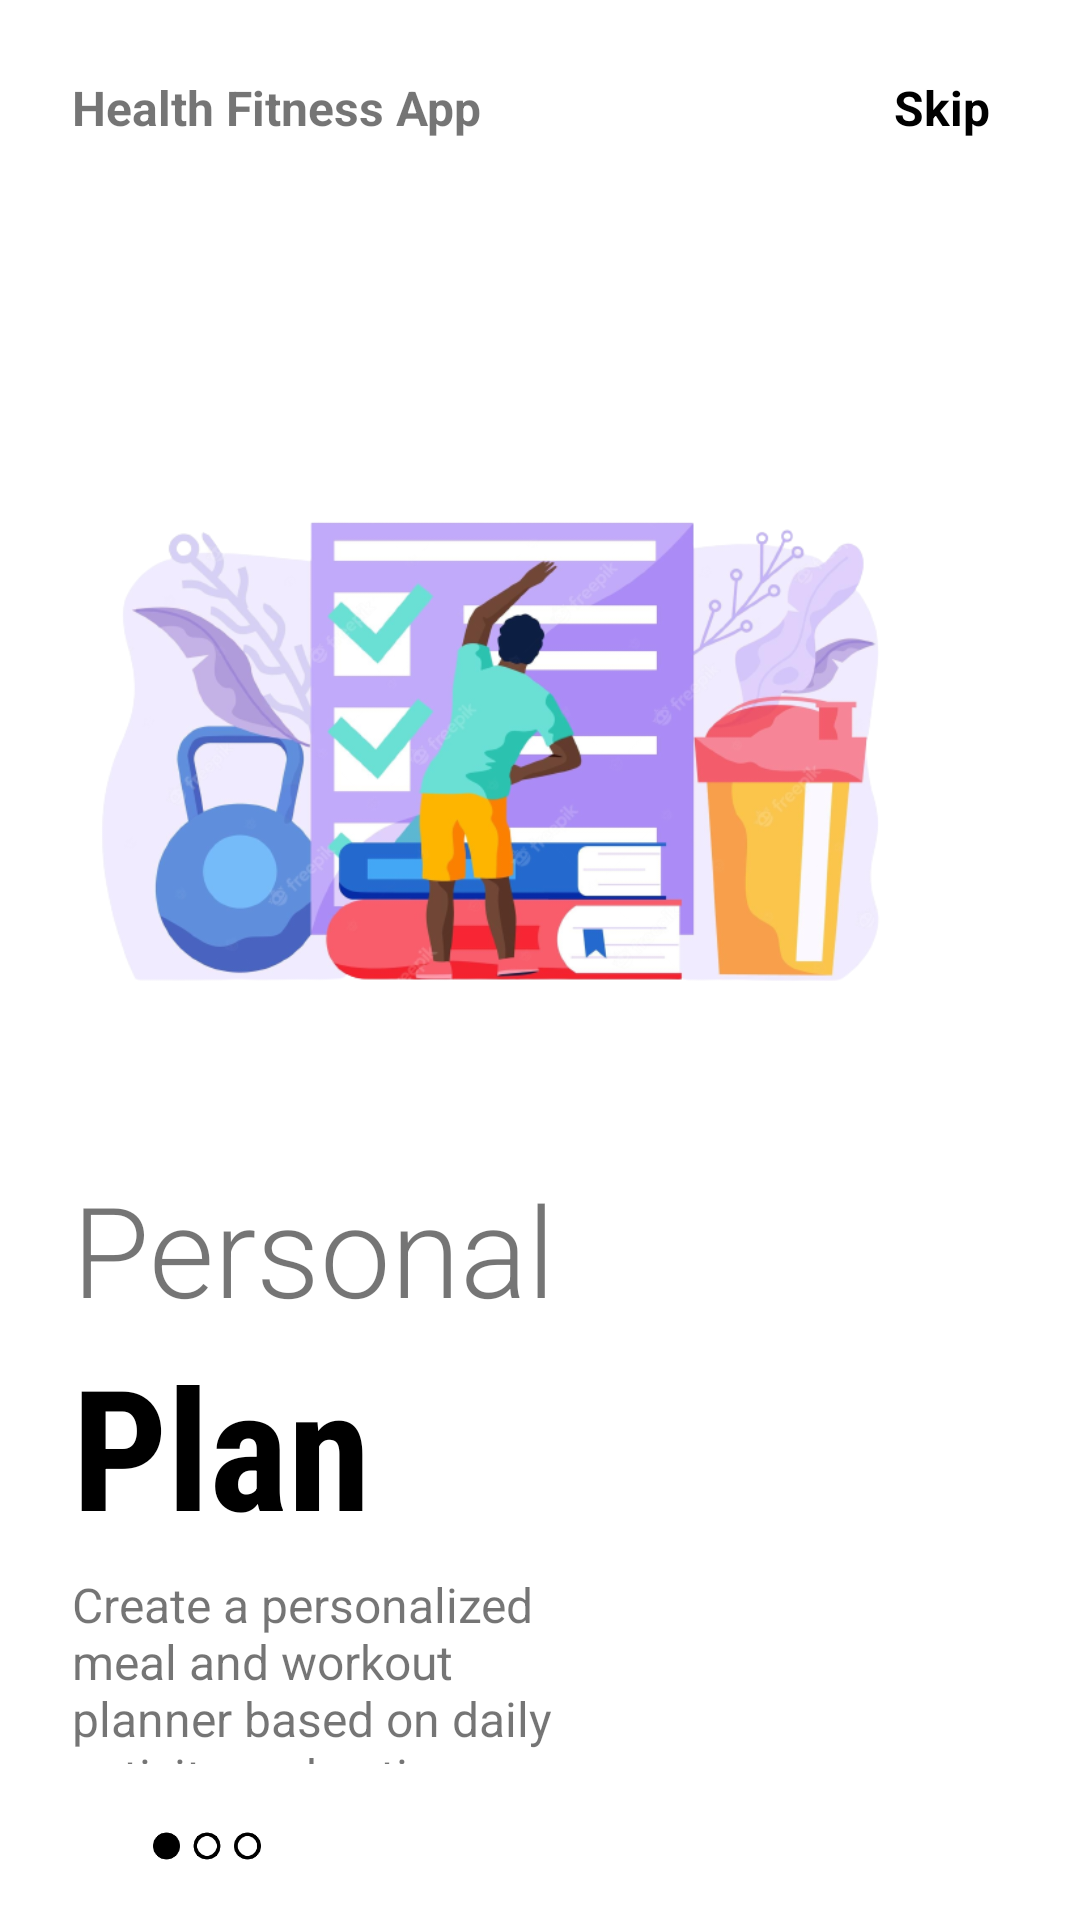

Icons on this 1080x1920 Android screen, each with the point to tap as point (x, y):
tab: point (207, 1846)
